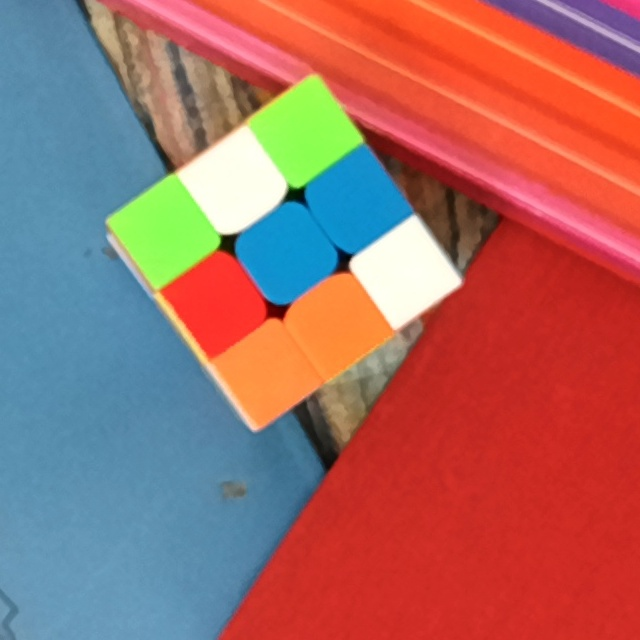tile: (135, 201, 194, 263), (307, 291, 365, 351), (327, 171, 384, 232), (237, 343, 294, 402), (188, 275, 244, 333), (277, 102, 333, 159), (255, 228, 314, 282), (378, 246, 431, 305), (207, 156, 264, 210)
